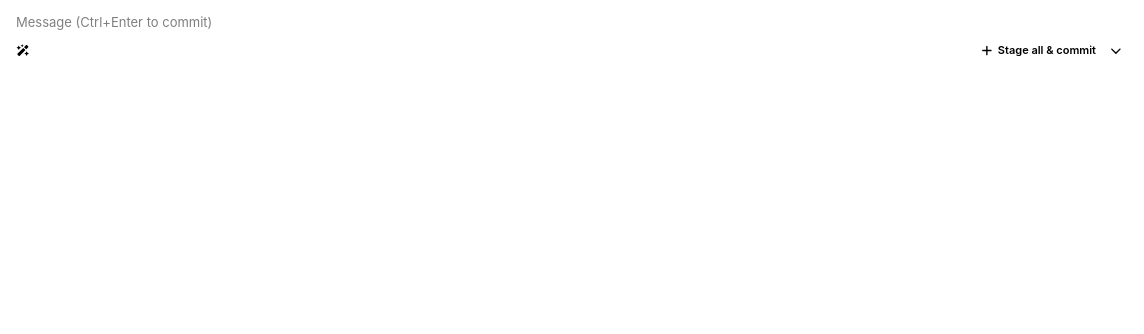
CommitBox menu › disables Commit and Commit & push until a message is written
Click the button named "More commit options" at (1116, 50), box [1104,38,1128,62]
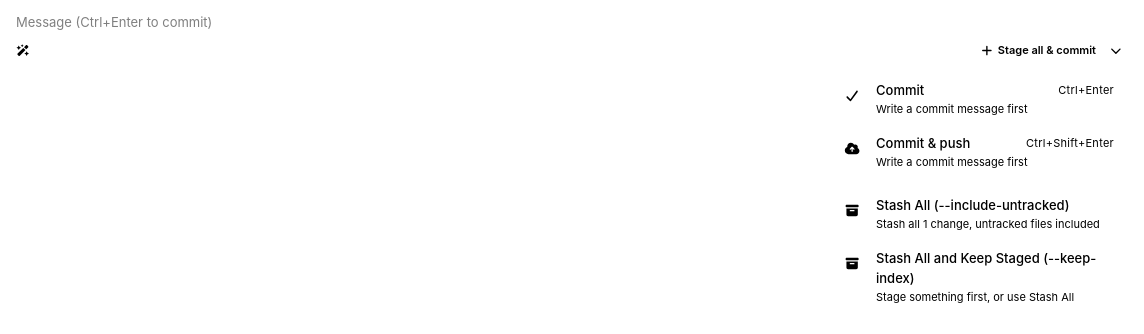
Result: the menu is shown at [824,68,1128,318]
Result: the menu item "Commit Ctrl+Enter Write a commit message first" is shown at [828,72,1124,125]
